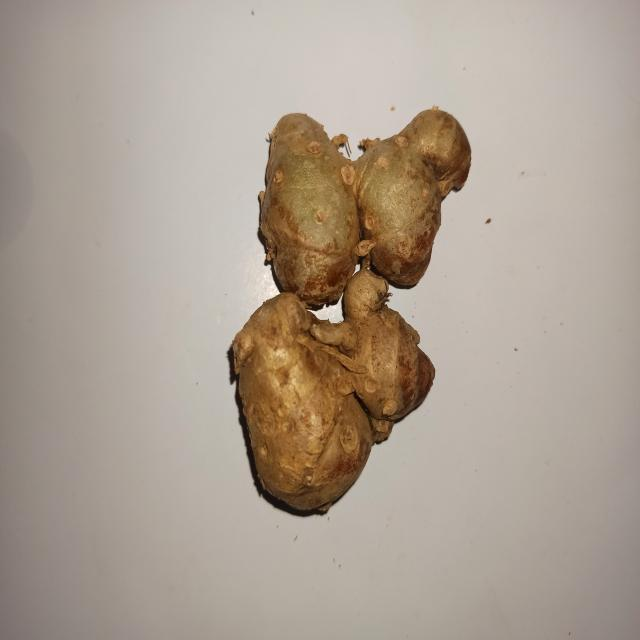ginger: (238, 107, 460, 493)
